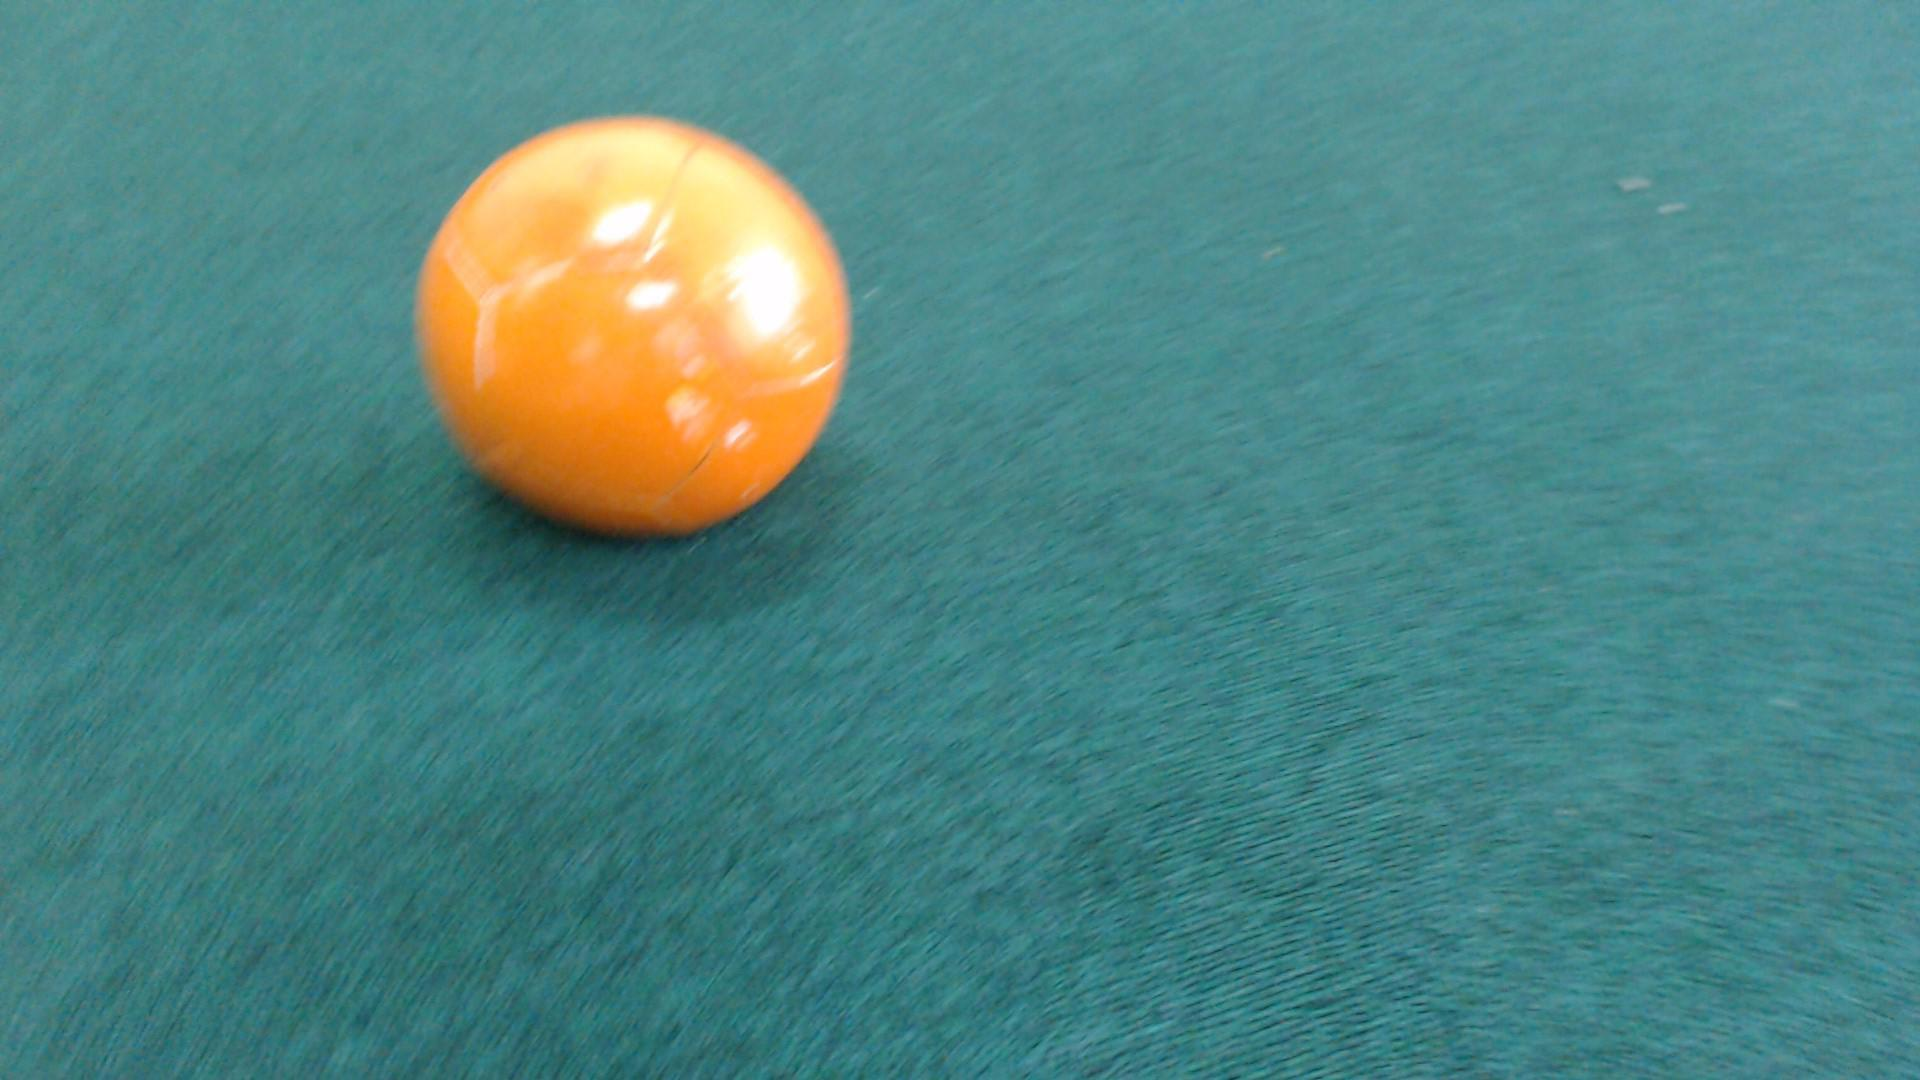bola: (392, 92, 891, 575)
